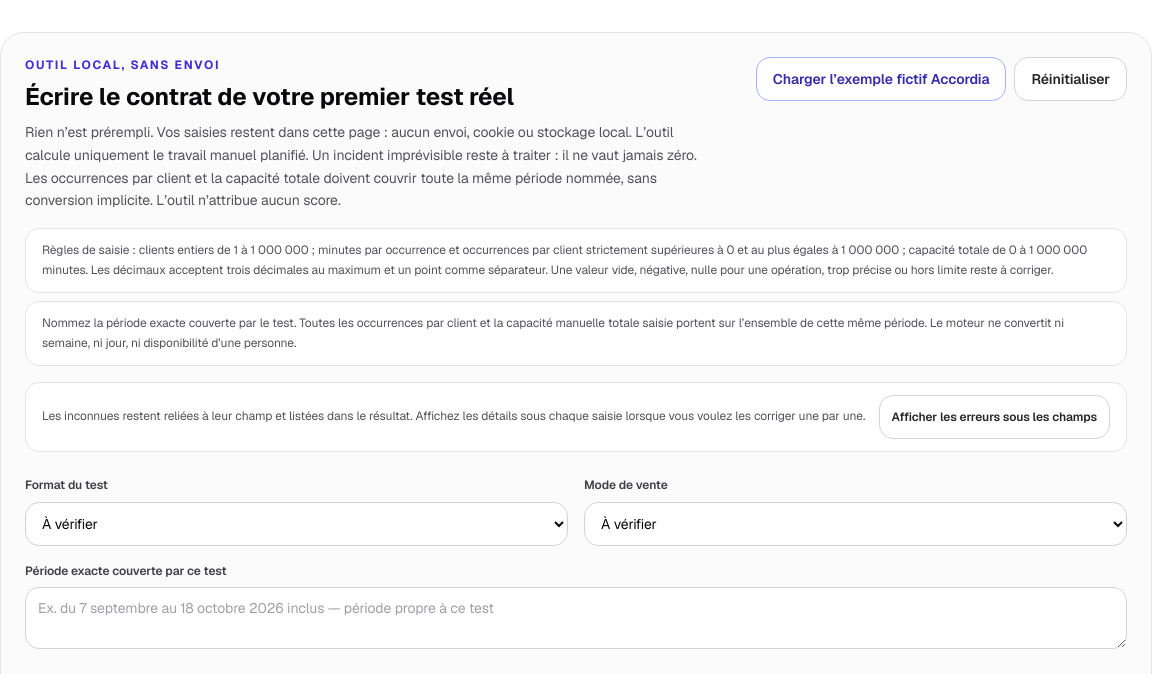
Test: MvpFirstClientContractTool › does not silently replace a cleared manual duration
The image size is (1152, 674).
Click the button "Charger l’exemple fictif Accordia" at (881,79), box x1=756 y1=57 x2=1006 y2=101
(page scrolled)
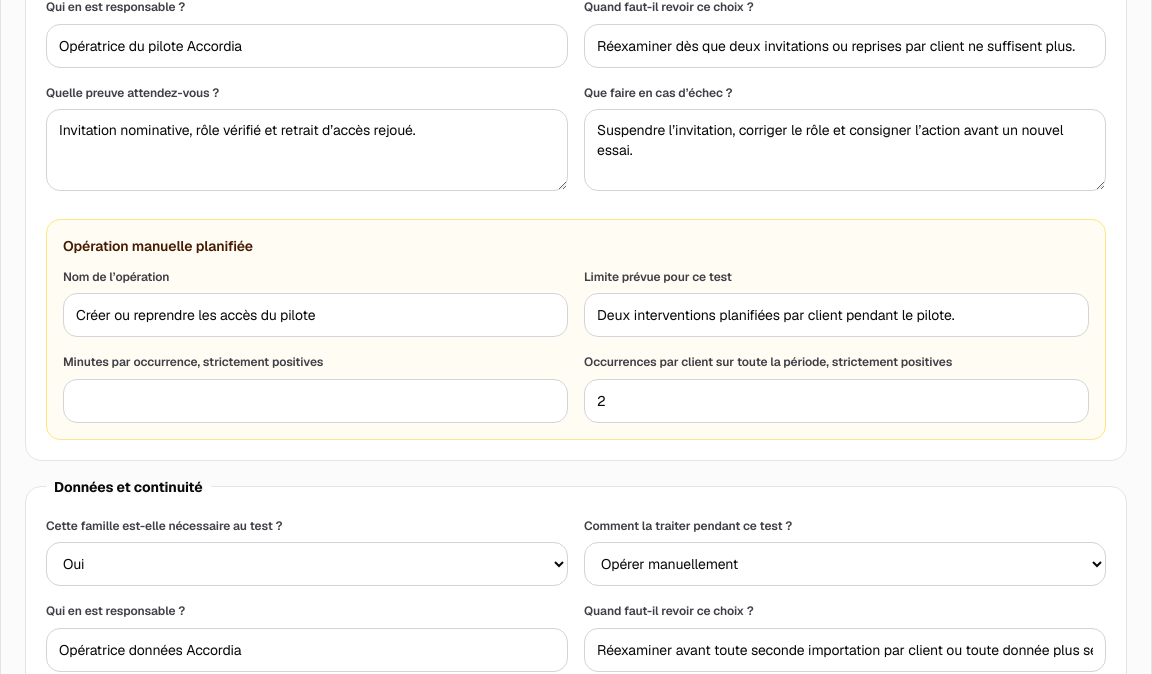
Clear the number field with id "mvp-capability-accountsAccess-manual-minutes" at (316,401), box x1=63 y1=379 x2=568 y2=423
(page scrolled)
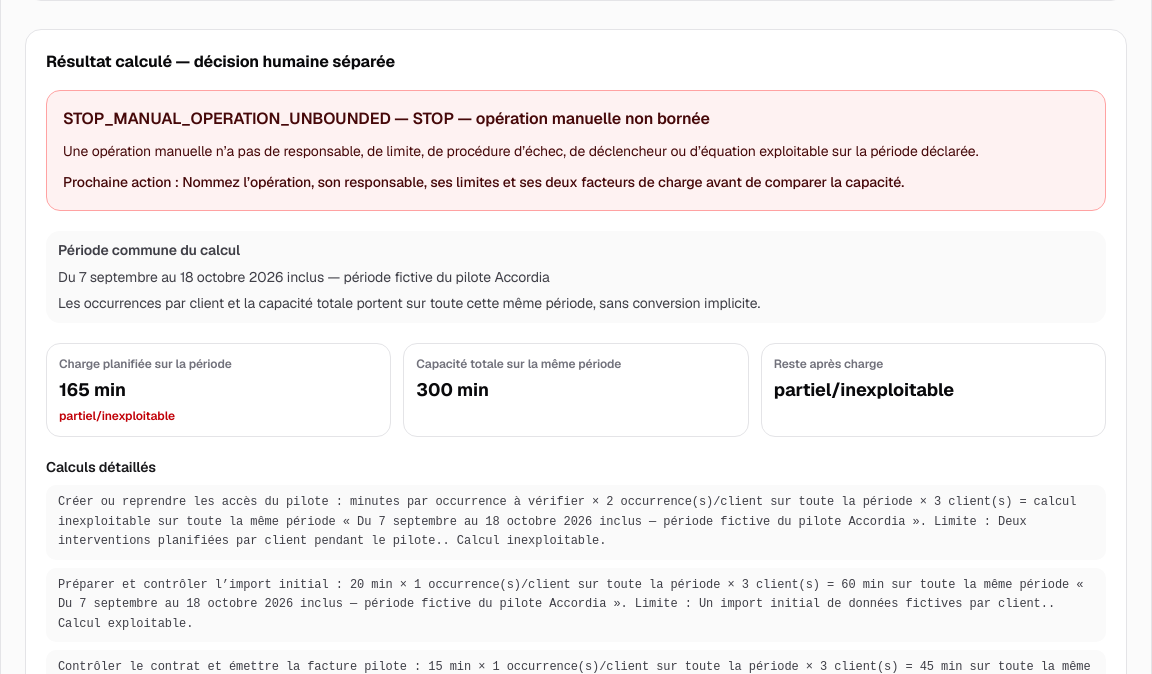
Expected: the element showing "165 min partiel/inexploitable" is shown, x1=59 y1=378 x2=175 y2=424
Now the text "165 min" is shown, box x1=59 y1=378 x2=126 y2=401
Now the text "partiel/inexploitable" is shown, box x1=59 y1=408 x2=175 y2=424
